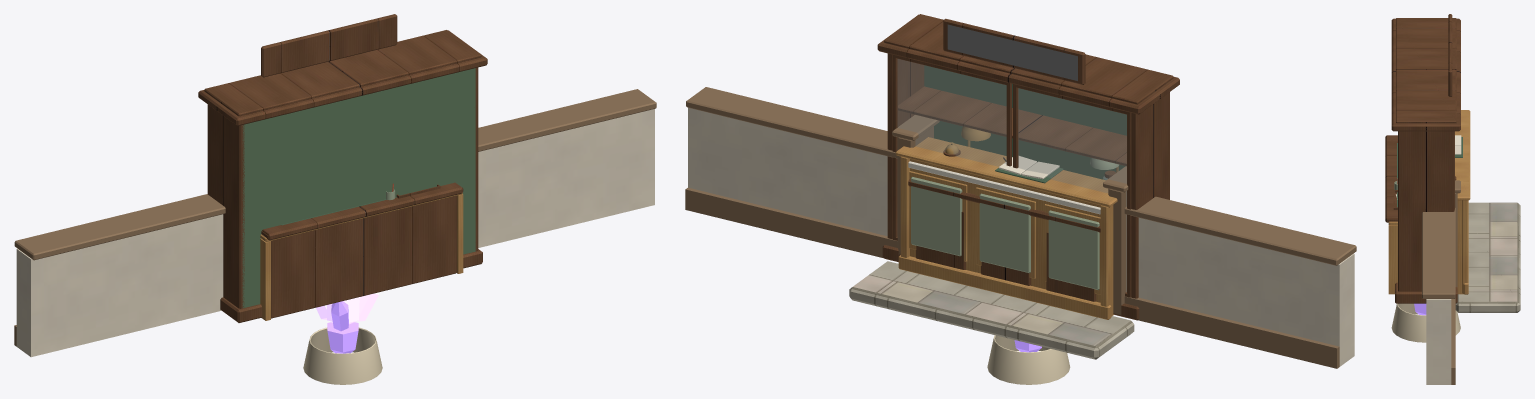
Rendered from kit.glb.
3 renders of one model, left to right at view 1: azimuth 30°, elevation 25°; view 2: azimuth 150°, elevation 25°; view 3: azimuth 270°, elevation 25°, orthographic. The views are drawn at different scales.
Visible parts, largest first — view 1: trophy_case, home_lip, home_lip_door, curator_desk, pendant_lamp, oracle_crystal, hq_front_desk; view 2: home_lip, home_lip_door, trophy_case, hq_front_desk, curator_desk, trophy_labels, pendant_lamp; view 3: trophy_case, home_lip_door, home_lip, hq_front_desk, pendant_lamp, curator_desk, oracle_crystal.
Part boxes in pixels (x1=…): trophy_case: x1=198, y1=14, x2=487, y2=322; home_lip: x1=14, y1=89, x2=656, y2=357; home_lip_door: x1=15, y1=89, x2=655, y2=356; curator_desk: x1=261, y1=182, x2=463, y2=318; pendant_lamp: x1=303, y1=327, x2=382, y2=384; oracle_crystal: x1=316, y1=292, x2=379, y2=353; hq_front_desk: x1=260, y1=183, x2=463, y2=320; home_lip: x1=685, y1=87, x2=1356, y2=368; home_lip_door: x1=685, y1=87, x2=1353, y2=368; trophy_case: x1=877, y1=14, x2=1179, y2=320; hq_front_desk: x1=895, y1=137, x2=1118, y2=319; curator_desk: x1=908, y1=126, x2=1115, y2=301; trophy_labels: x1=947, y1=24, x2=1077, y2=80; pendant_lamp: x1=987, y1=335, x2=1070, y2=384; trophy_case: x1=1391, y1=14, x2=1460, y2=303; home_lip_door: x1=1422, y1=180, x2=1520, y2=365; home_lip: x1=1422, y1=210, x2=1455, y2=384; hq_front_desk: x1=1388, y1=110, x2=1470, y2=294; pendant_lamp: x1=1391, y1=303, x2=1460, y2=342; curator_desk: x1=1385, y1=135, x2=1397, y2=222; oracle_crystal: x1=1414, y1=303, x2=1426, y2=315.
Size of the model in its own units: 6 by 3.01 by 1.29.
Materials: 22 (5 with a texture image).
